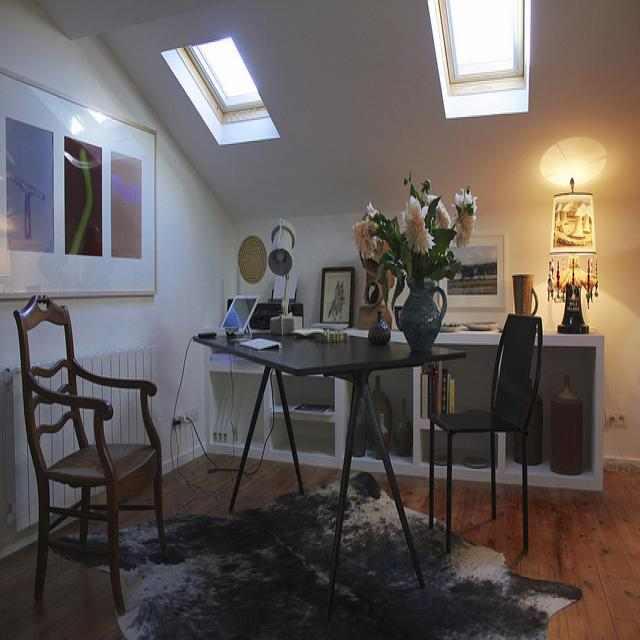chair: (14, 295, 168, 612), (427, 312, 544, 555)
dining table: (195, 329, 457, 379)
